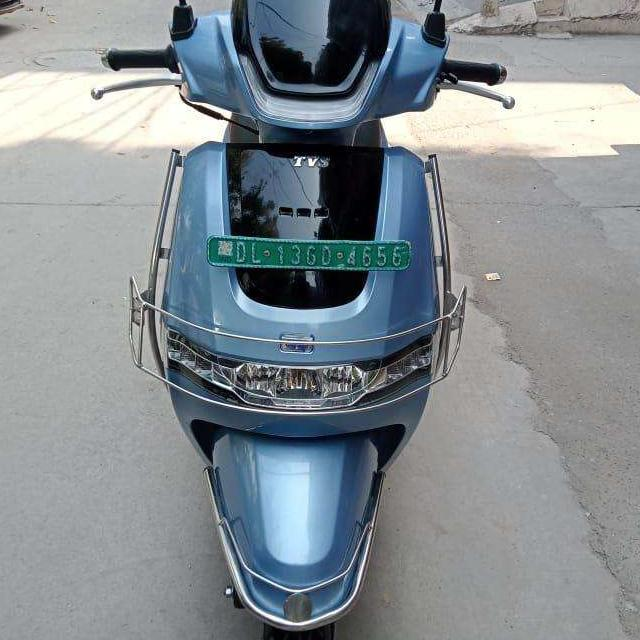Indian_Number_Plate: (210, 236, 412, 271)
